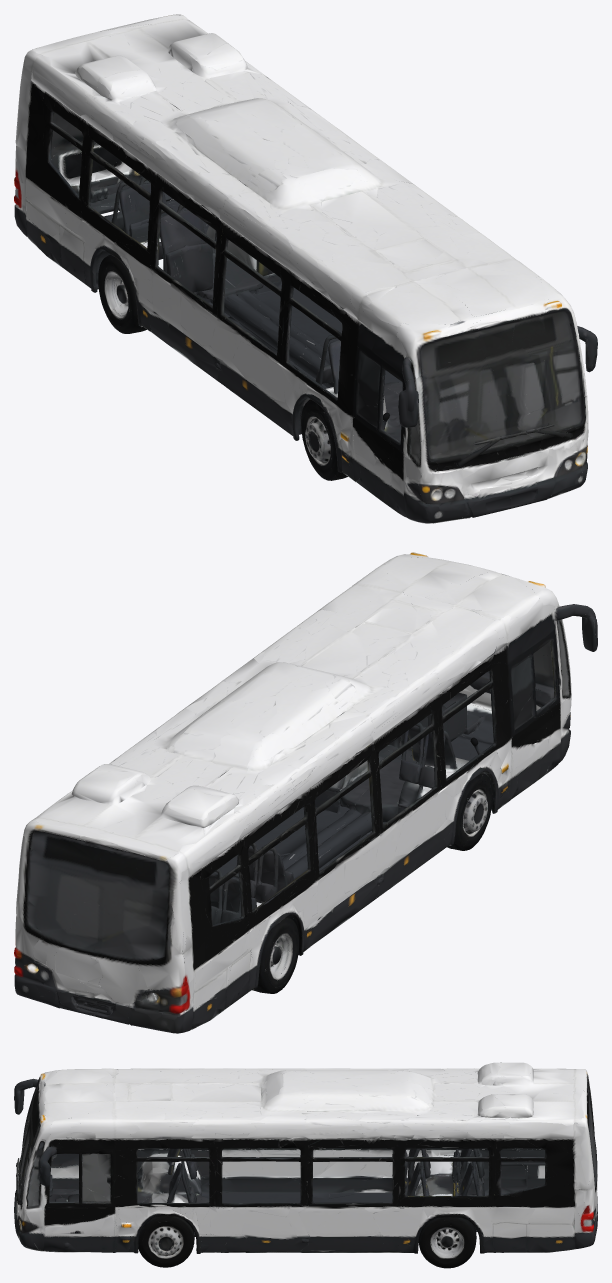
File: metro-bus.glb
3 views of the same model, one above another, from view 1: azimuth 30°, elevation 25°; view 2: azimuth 150°, elevation 25°; view 3: azimuth 270°, elevation 25° (orthographic). The views are drawn at different scales.
Visible parts, largest first — view 1: metro-bus; view 2: metro-bus; view 3: metro-bus.
Part boxes in pixels (bbox=[...]): metro-bus: bbox=[14, 14, 597, 523]; metro-bus: bbox=[14, 552, 597, 1033]; metro-bus: bbox=[14, 1062, 597, 1268].
Size of the model in its own units: 3.58 by 3.61 by 12.
Materials: 1 (1 with a texture image).
